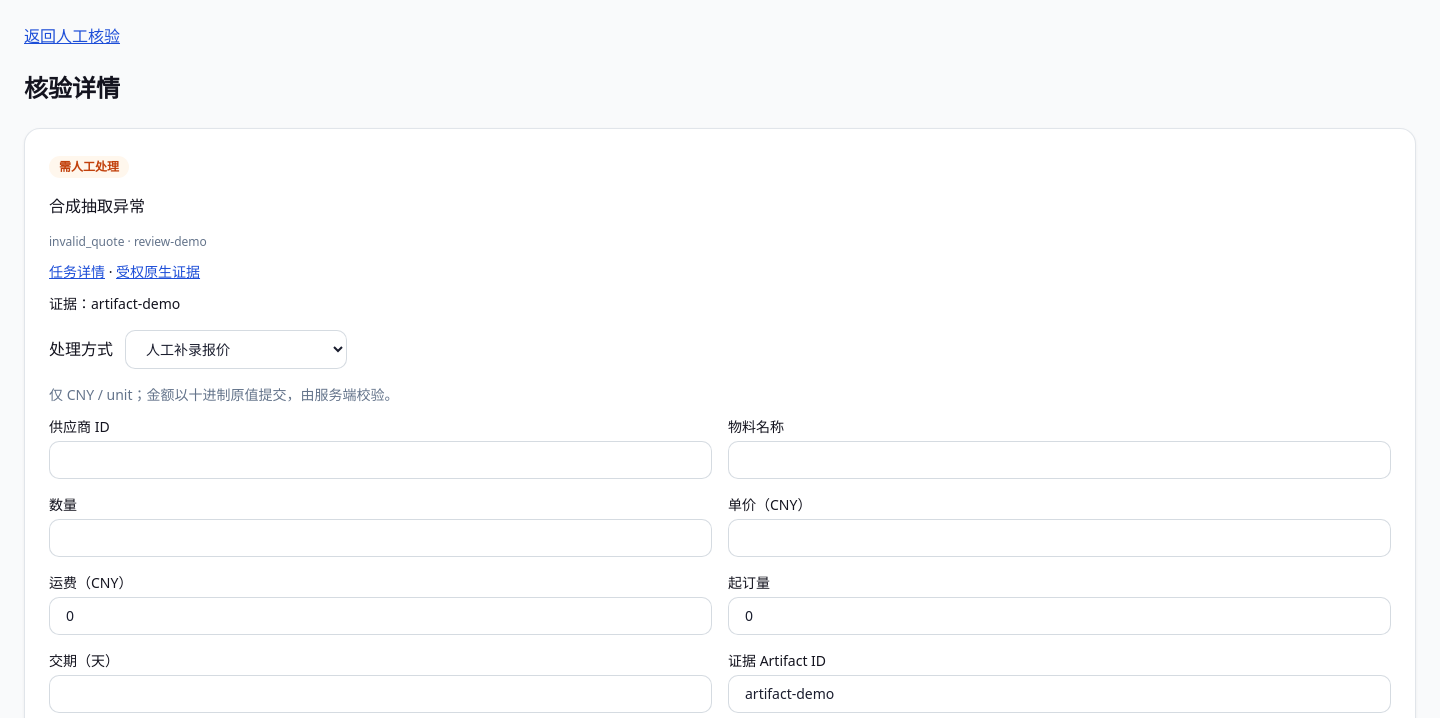
submits exact manual decimals and shows server validation rejection
Check: the text "合成抽取异常" is shown, box [49, 195, 145, 217]
Type "supplier-demo" into the field labelled "供应商 ID" at (380, 460), box [49, 441, 712, 479]
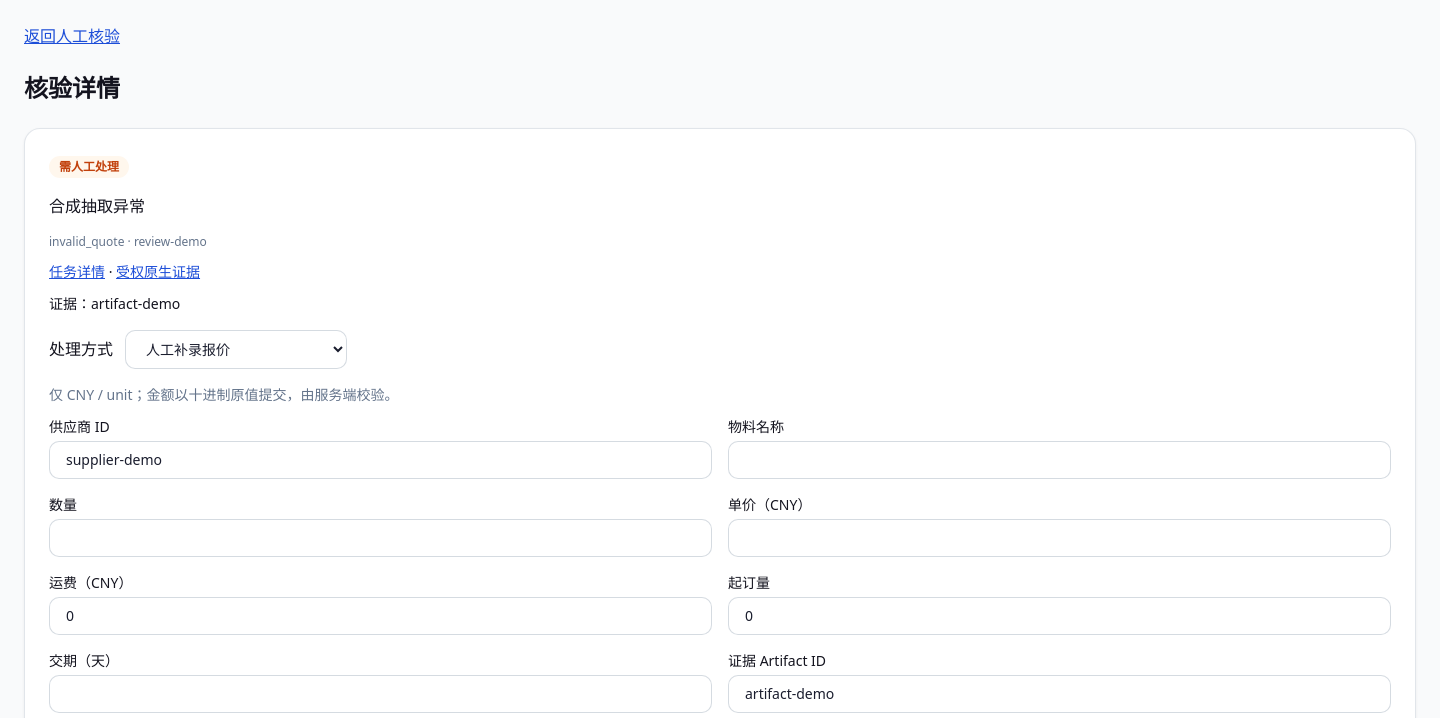
Type "合成物料" into the field labelled "物料名称" at (1060, 460), box [728, 441, 1391, 479]
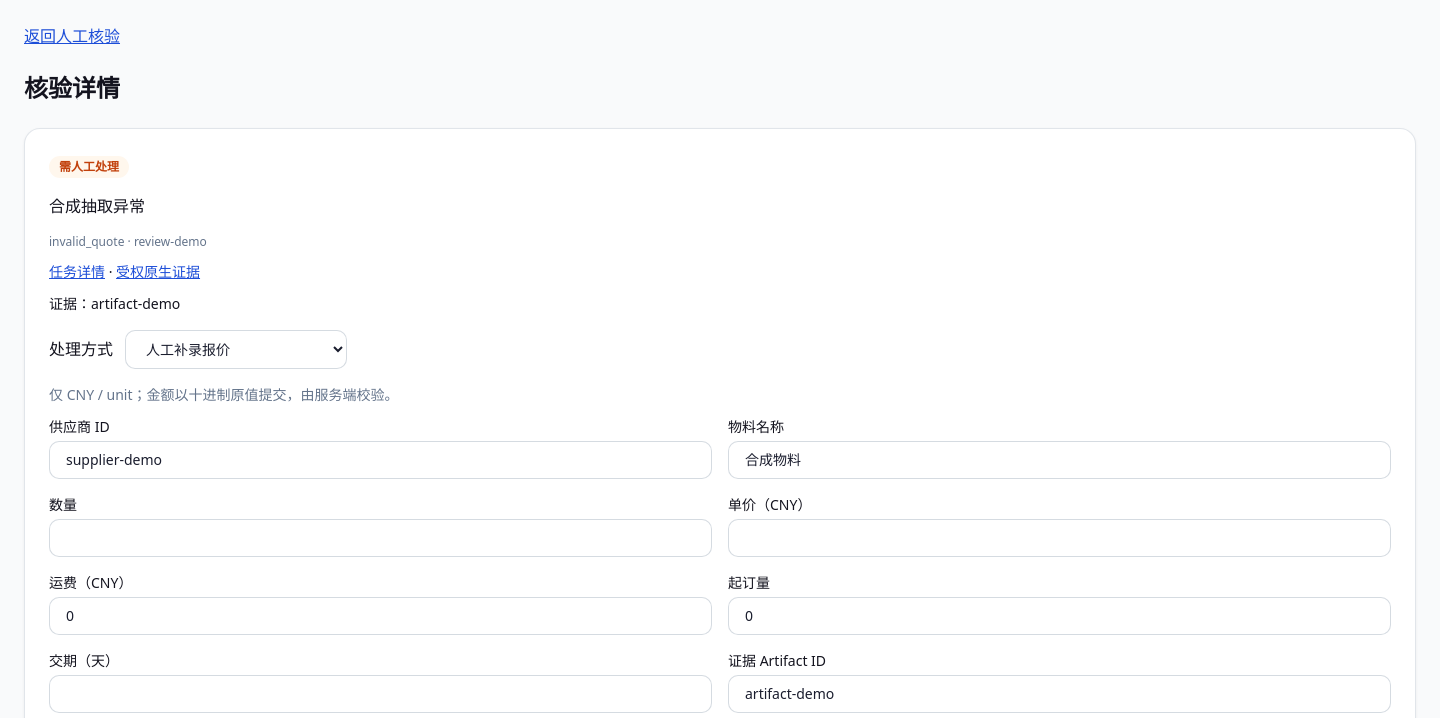
Type "1" into the field labelled "数量" at (380, 538), box [49, 519, 712, 557]
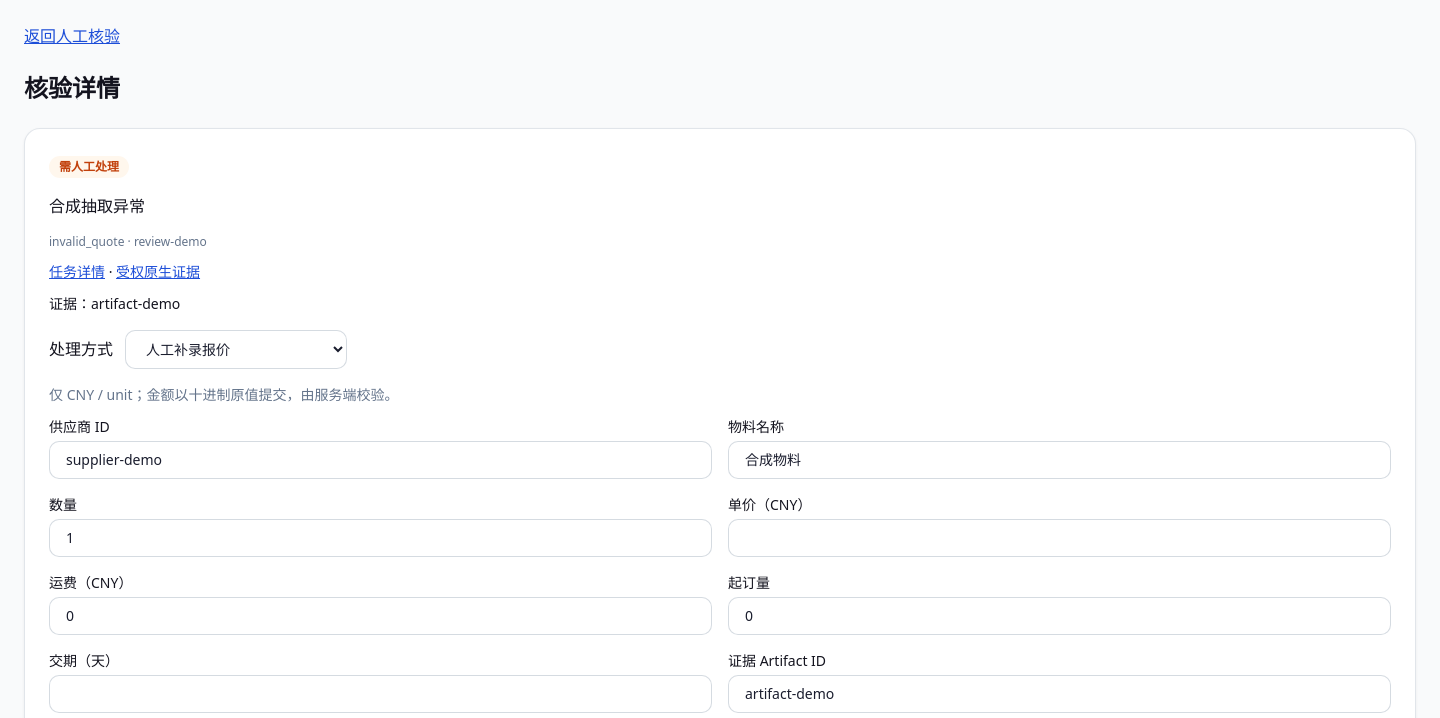
Type "9007199254740993.01" into the field labelled "单价（CNY）" at (1060, 538), box [728, 519, 1391, 557]
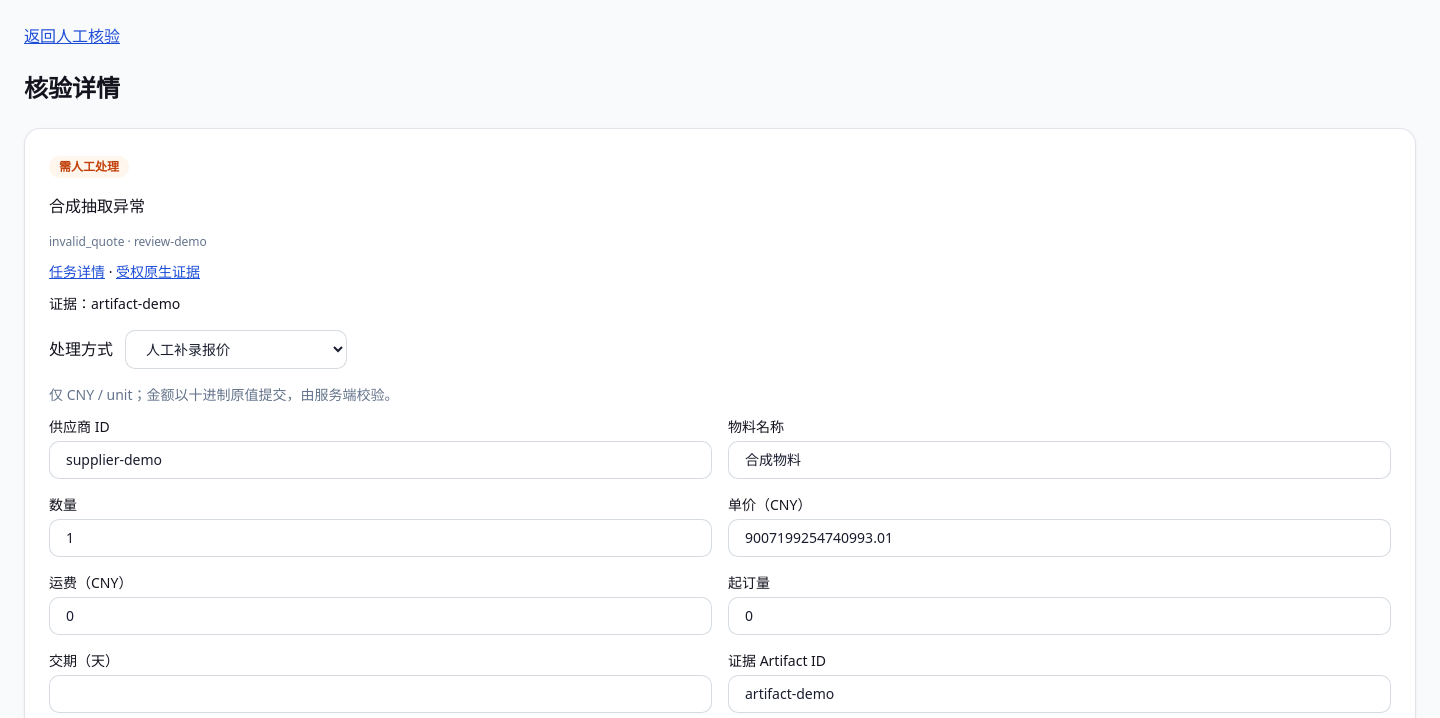
Type "3" into the number field labelled "交期（天）" at (380, 694), box [49, 675, 712, 713]
(page scrolled)
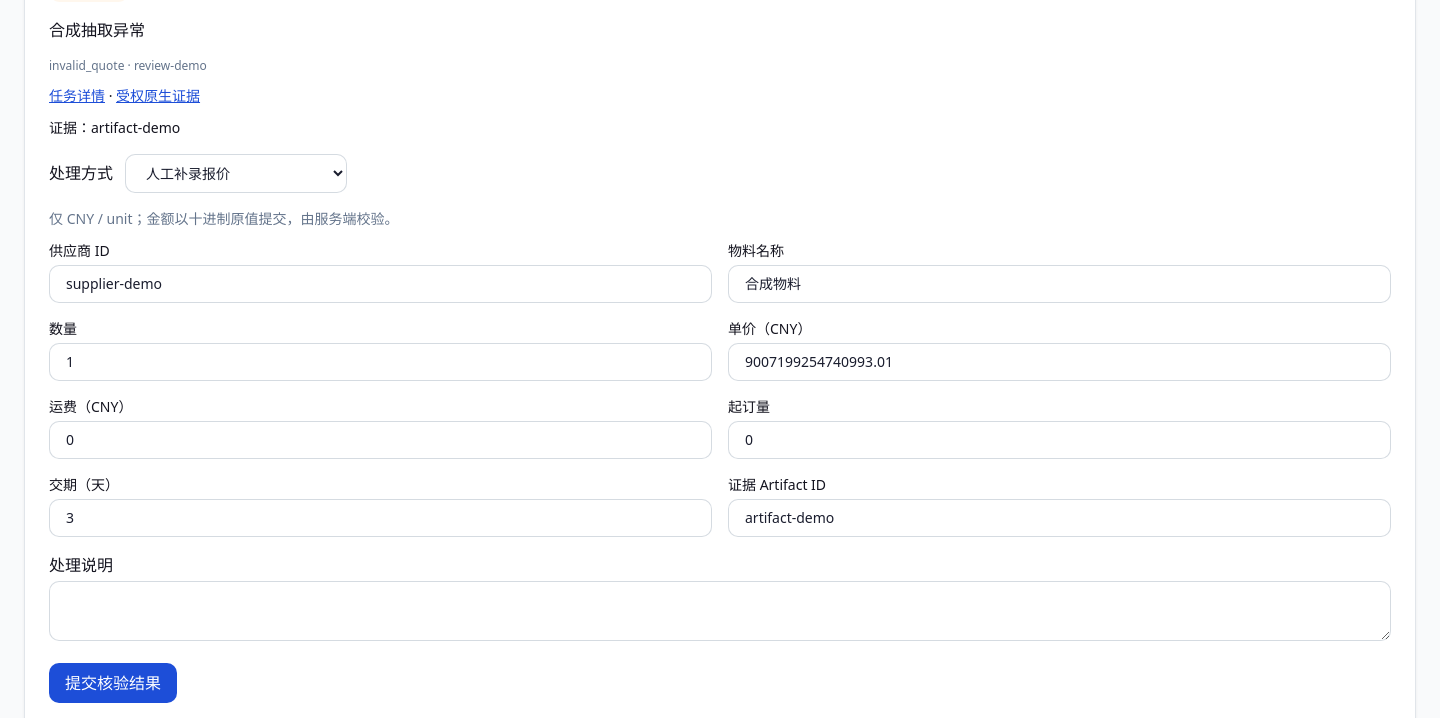
Click the button "提交核验结果" at (113, 683), box [49, 663, 177, 703]
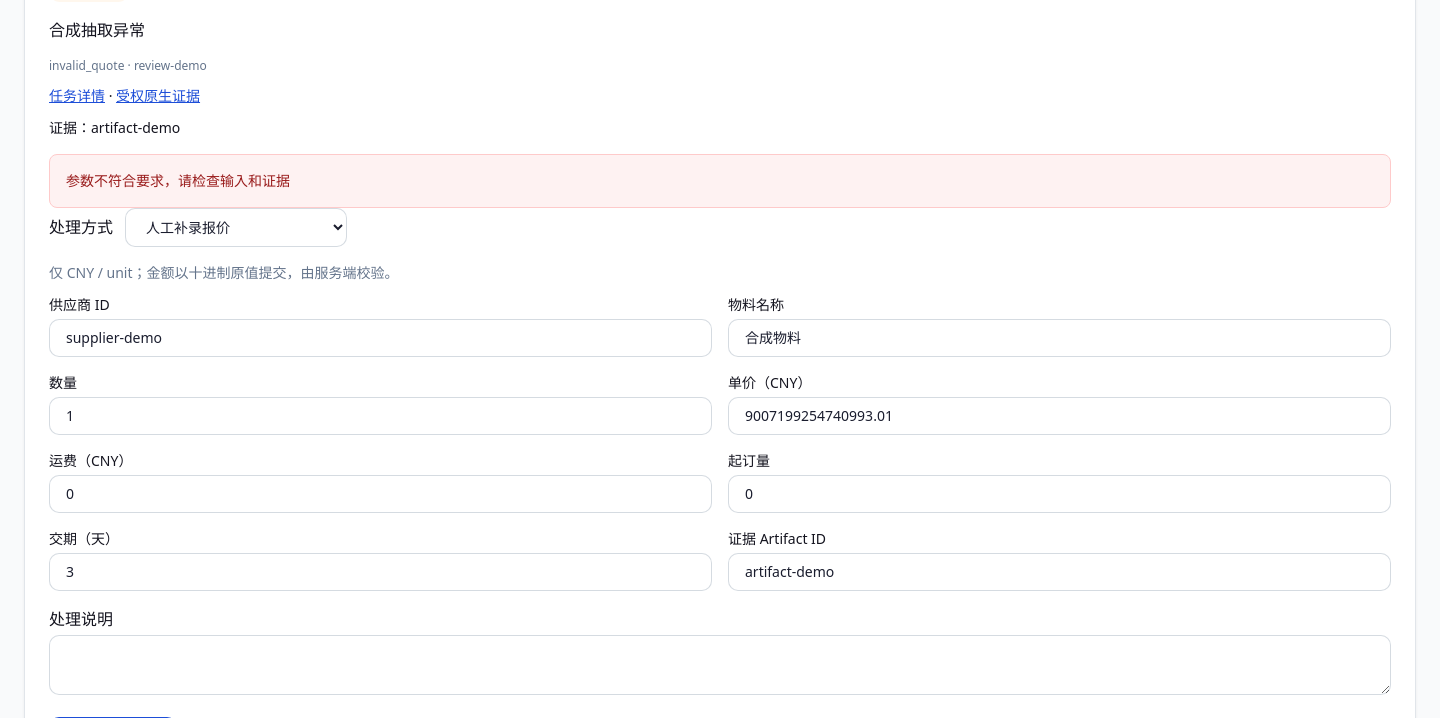
Check: the text "参数不符合要求，请检查输入和证据" is shown, box [49, 154, 1391, 208]
